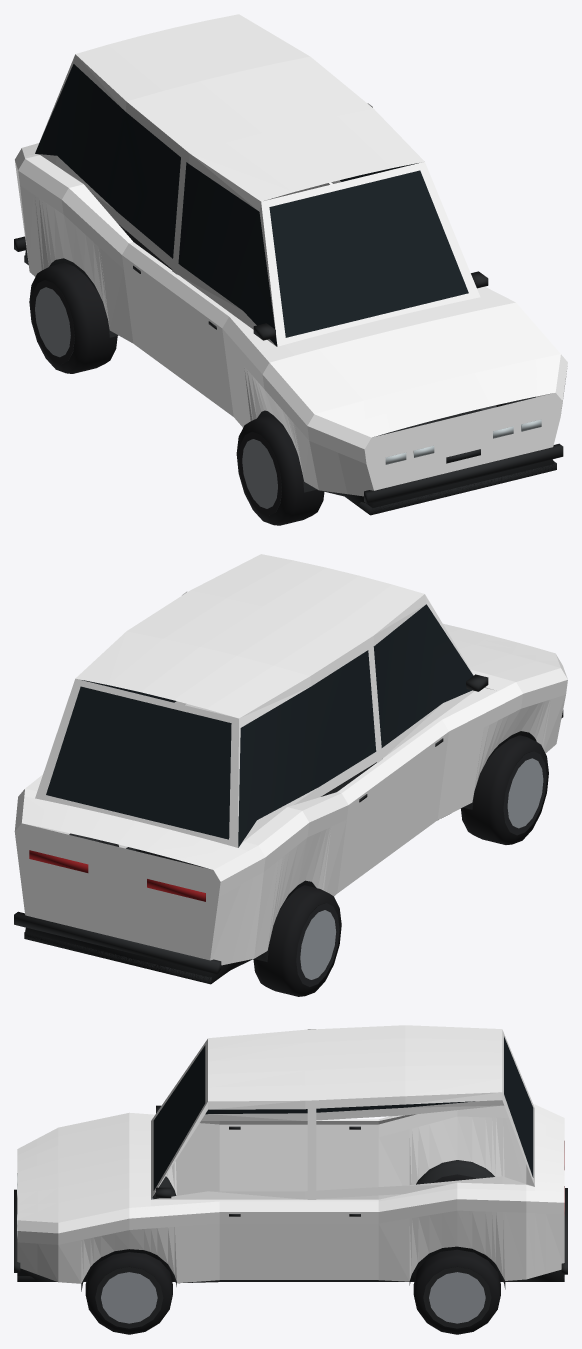
File: halberton_serrote.glb
3 views of the same model, one above another, from view 1: azimuth 30°, elevation 25°; view 2: azimuth 150°, elevation 25°; view 3: azimuth 270°, elevation 25° (orthographic). The views are drawn at different scales.
Visible parts, largest first — view 1: Body_Paint, Body_Details, Mount_RearLeft_Wheel_Details, Mount_FrontLeft_Wheel_Details; view 2: Body_Paint, Body_Details, Mount_RearLeft_Wheel_Details, Mount_FrontLeft_Wheel_Details; view 3: Body_Paint, Body_Details, Mount_RearRight_Wheel_Details, Mount_FrontRight_Wheel_Details.
Boxes of the visible parts, <box> form: Body_Paint: <box>15,14,567,496</box>; Body_Details: <box>14,64,563,515</box>; Mount_RearLeft_Wheel_Details: <box>29,262,117,373</box>; Mount_FrontLeft_Wheel_Details: <box>236,415,324,525</box>; Body_Paint: <box>14,554,567,965</box>; Body_Details: <box>14,604,563,984</box>; Mount_RearLeft_Wheel_Details: <box>253,885,341,996</box>; Mount_FrontLeft_Wheel_Details: <box>461,735,548,844</box>; Body_Paint: <box>17,1025,564,1283</box>; Body_Details: <box>14,1036,567,1291</box>; Mount_RearRight_Wheel_Details: <box>413,1249,500,1334</box>; Mount_FrontRight_Wheel_Details: <box>85,1252,172,1334</box>.
Size of the model in its own units: 2.08 by 2.15 by 4.74.
2 materials, 1 textured.
